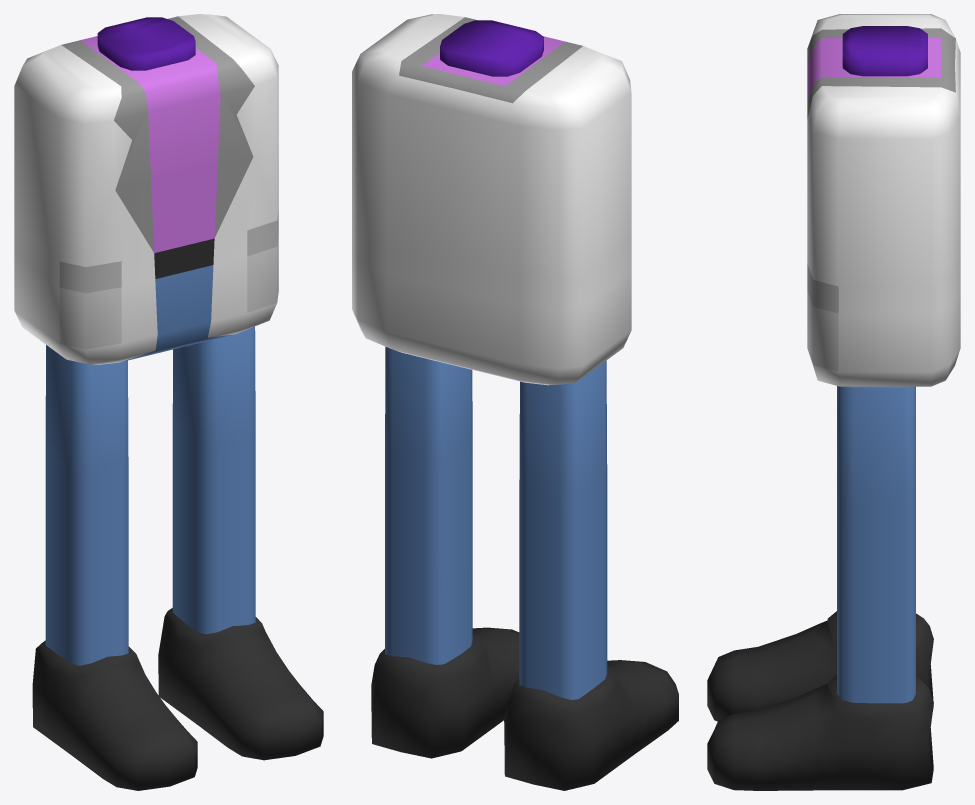
Rendered from NPC_Body4.gltf.
3 renders of one model, left to right at view 1: azimuth 30°, elevation 25°; view 2: azimuth 150°, elevation 25°; view 3: azimuth 270°, elevation 25°, orthographic. The views are drawn at different scales.
Parts seen in each view (by area): view 1: NPC_Body.004; view 2: NPC_Body.004; view 3: NPC_Body.004.
Part boxes in pixels (x1,y1,x2,y2): NPC_Body.004: (14, 14, 323, 790); NPC_Body.004: (352, 14, 678, 790); NPC_Body.004: (707, 14, 960, 790).
Size of the model in its own units: 0.5348 by 1.57 by 0.518.
1 material, 1 textured.
